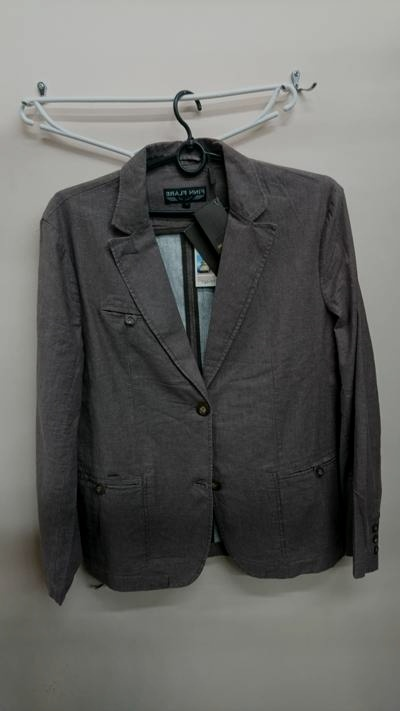Blazer: (14, 112, 380, 614)
